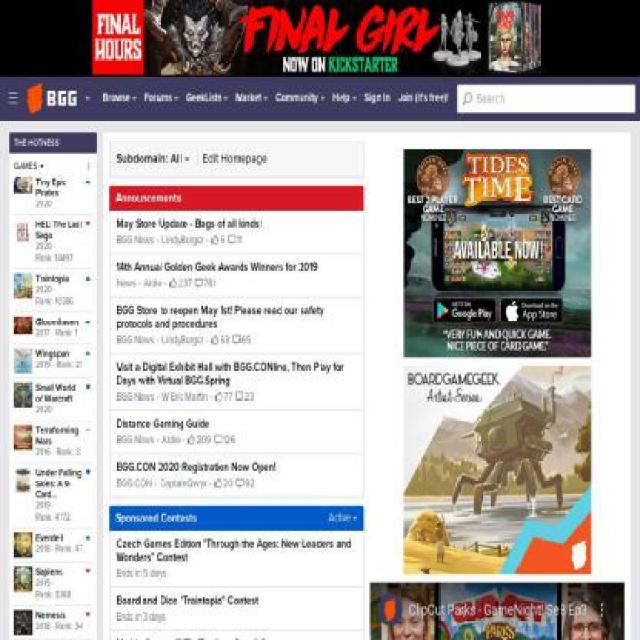button: (14, 467, 92, 524), (14, 219, 92, 264), (14, 176, 92, 210), (14, 274, 92, 308), (14, 382, 92, 416), (14, 424, 92, 458), (14, 567, 92, 601), (14, 532, 92, 557), (14, 610, 92, 635), (14, 349, 92, 373), (14, 316, 92, 339), (116, 150, 190, 168), (394, 88, 452, 109), (272, 88, 328, 109), (182, 88, 232, 109), (99, 88, 141, 109), (141, 88, 182, 109), (232, 88, 272, 109), (360, 88, 394, 109), (328, 88, 361, 109), (459, 85, 475, 113), (329, 512, 357, 525), (13, 162, 44, 172), (81, 90, 94, 107), (14, 138, 29, 150), (9, 82, 25, 93), (85, 160, 94, 172)
field: (457, 83, 635, 114)
